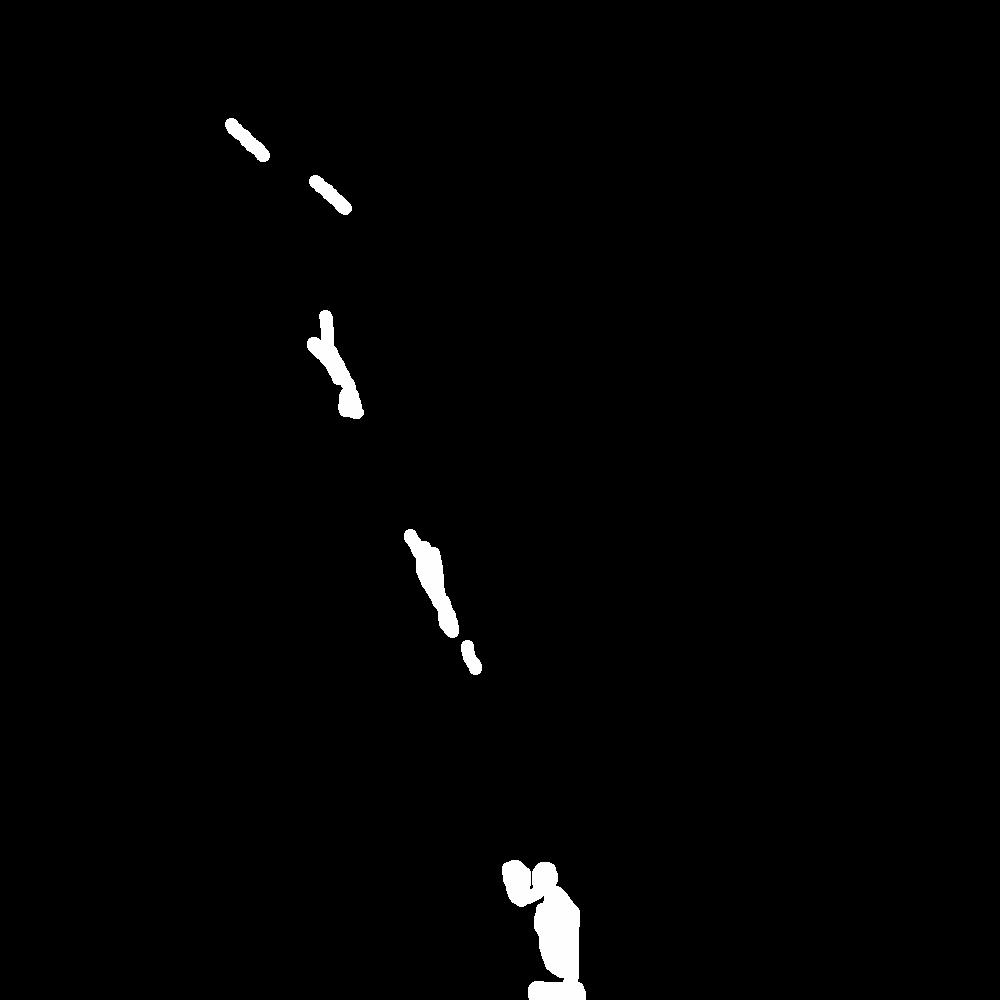illegal: (393, 482, 486, 679), (494, 851, 598, 1000), (224, 119, 361, 214), (301, 303, 381, 431)
